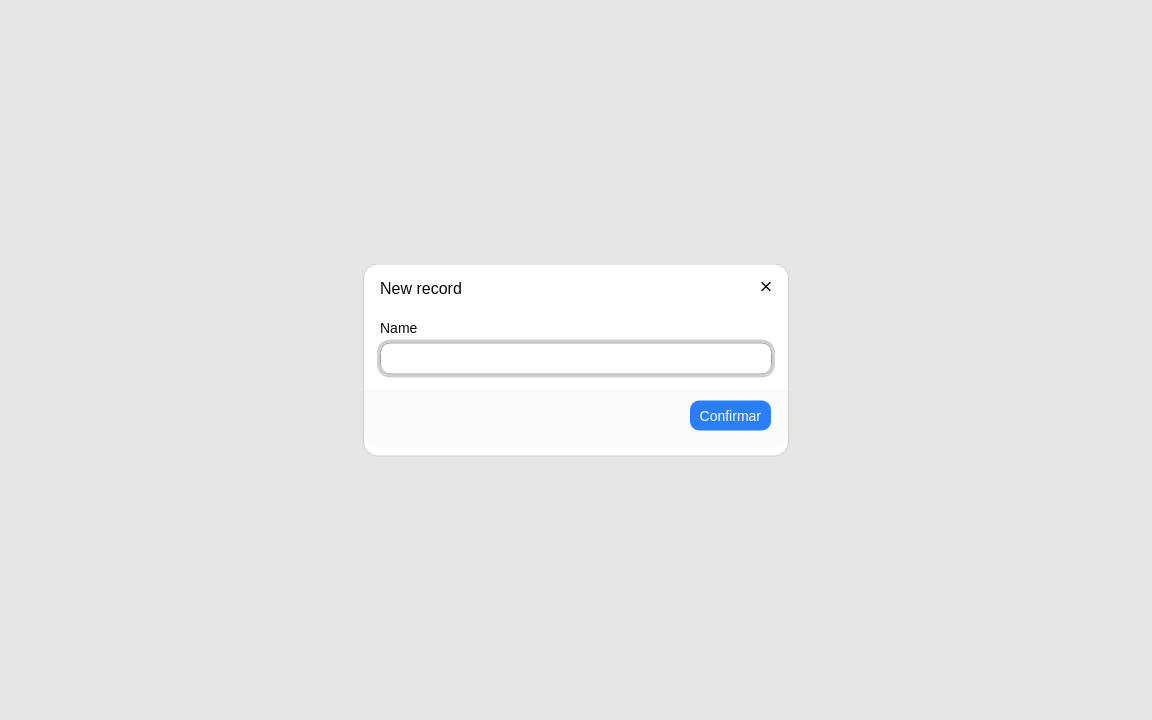
Scenario: FormModal › schema validation › clears the field error when the user types again
The width and height of the screenshot is (1152, 720).
Type "ab" into the field labelled "Name" at (576, 358), box [380,342,772,374]
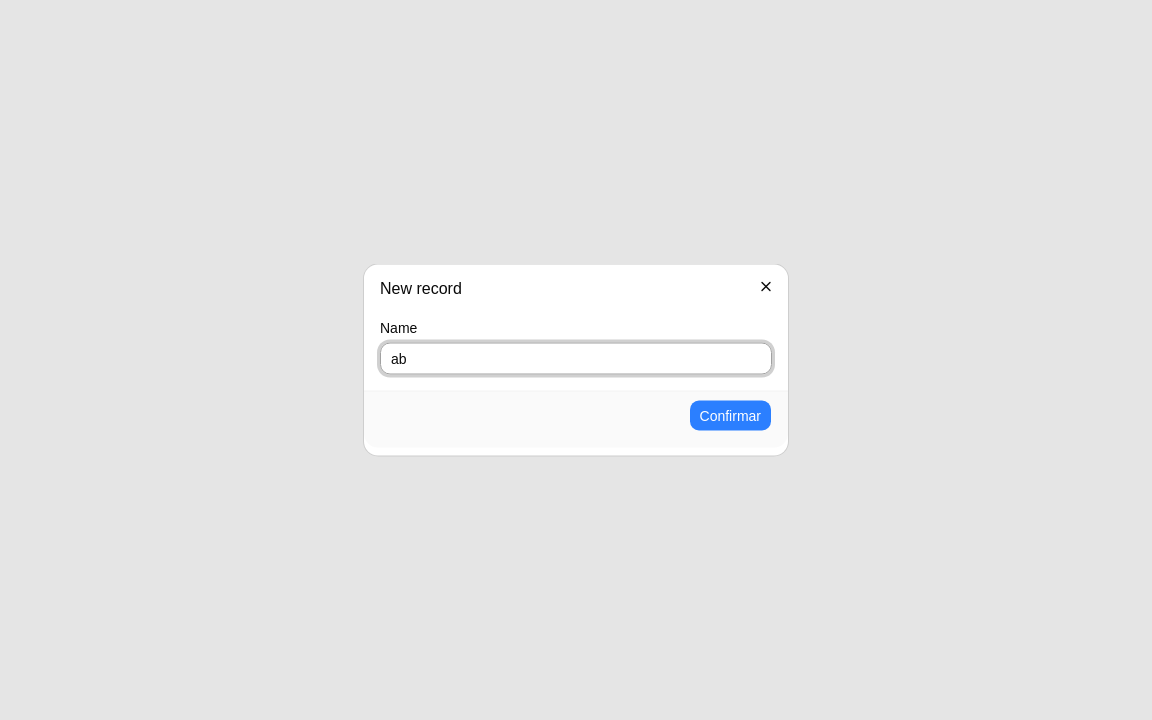
Click the button "Confirmar" at (730, 416), box [688,400,772,432]
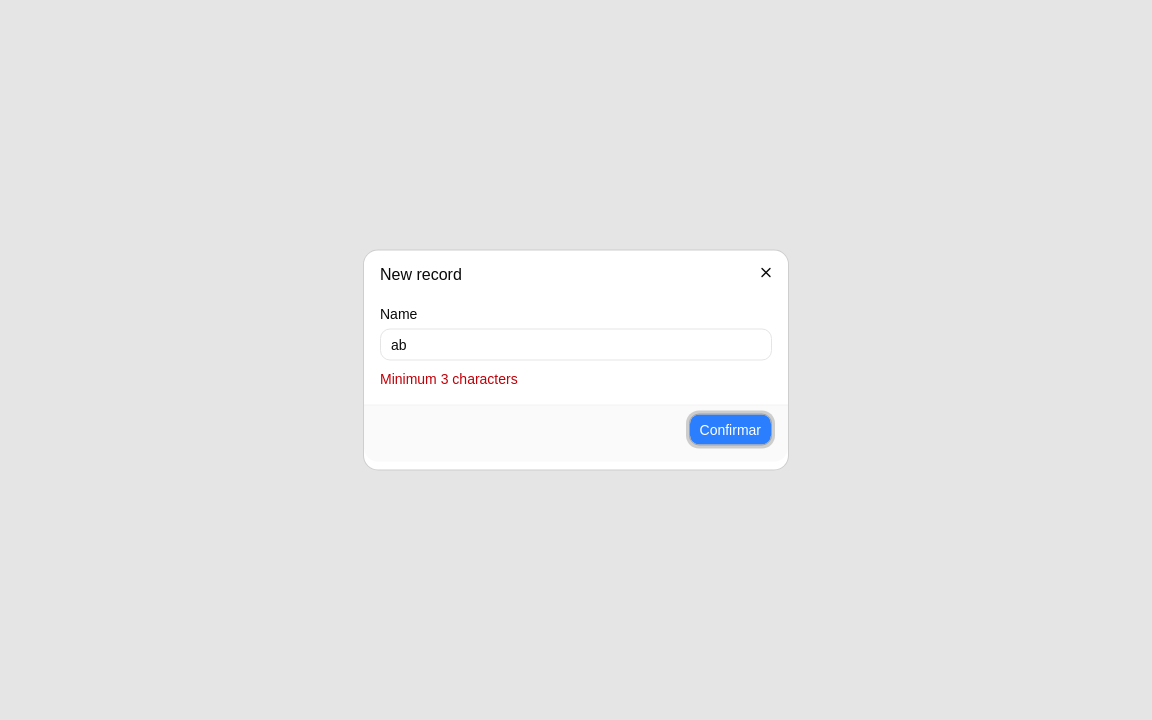
Expected: the text "Minimum 3 characters" is shown, [380,370,518,386]
Type "c" into the field labelled "Name" at (576, 344), box [380,328,772,360]
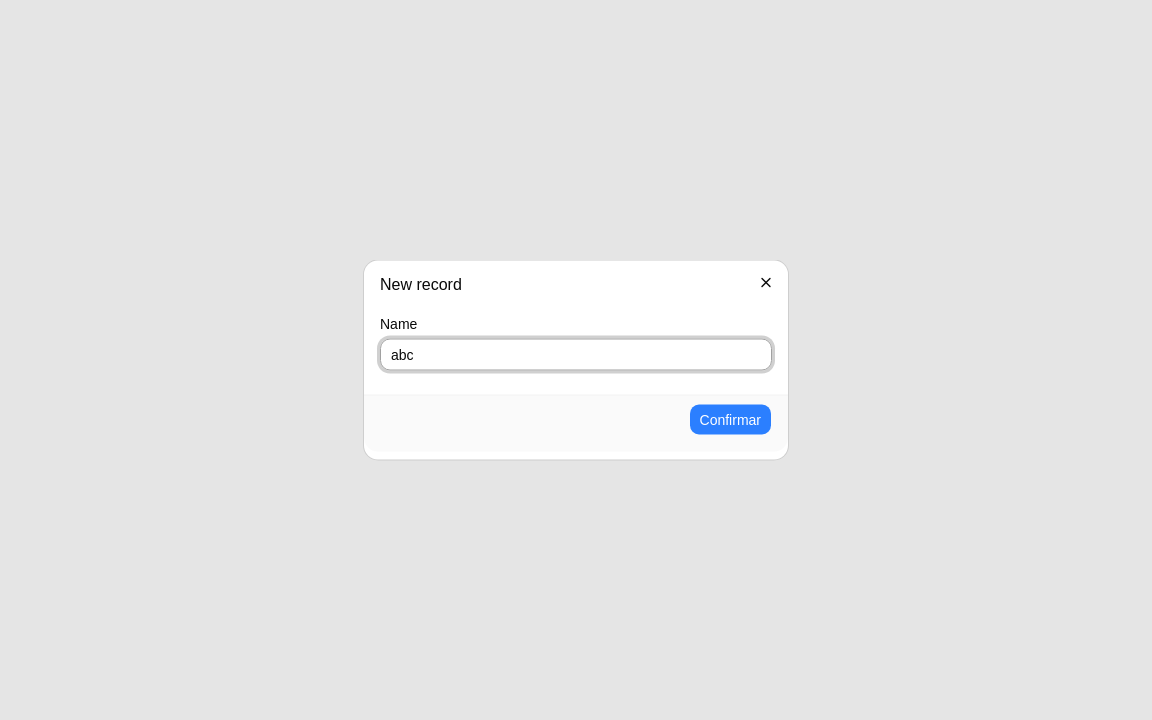
Expected: the text "Minimum 3 characters" is gone
